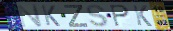K: (132, 4, 154, 28), (40, 4, 62, 28)
N: (15, 4, 44, 28)
P: (109, 4, 131, 28)
S: (85, 4, 110, 28)
Z: (63, 4, 90, 28)
